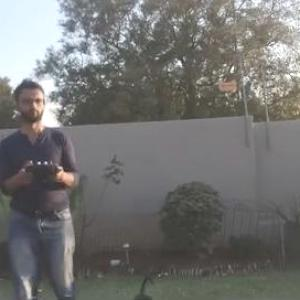follow: (1, 79, 84, 299)
